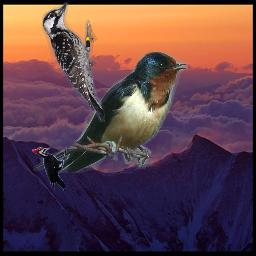Swallow: (33, 51, 188, 173)
Woodpecker: (42, 2, 105, 122), (32, 147, 67, 193)
